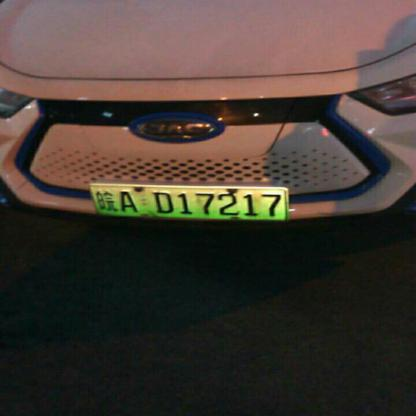lp: (88, 185, 288, 220)
